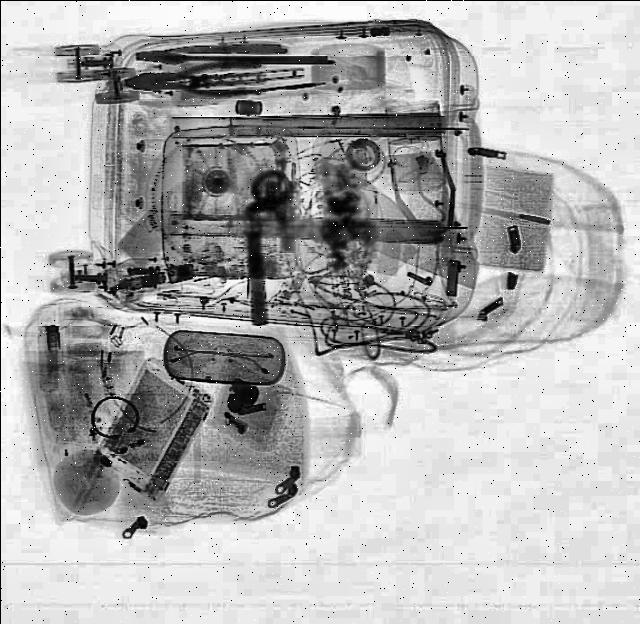Pliers: (124, 61, 264, 101)
